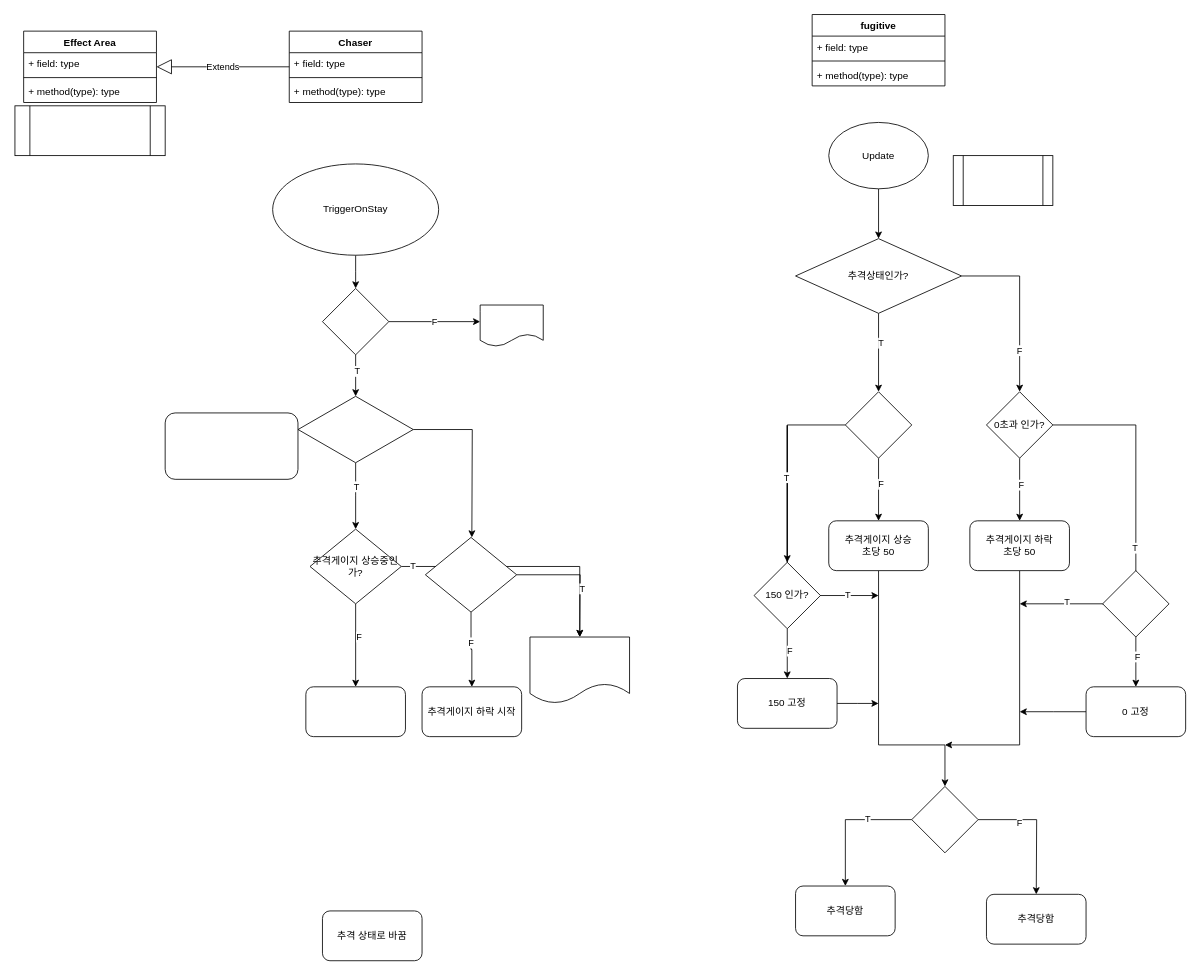
The diagram is 1200 pixels wide and 975 high, and some of its shapes have lost their labels. The shapes that lost their labels are listed below. From the top down, each one's centre as x and y in pixels, then its label:
point 89,130: List<fugitive> fugitives
point 355,321: 인형인가?
point 355,429: 카메라 안에 보이는가?
point 878,424: 150 미만인가?
point 231,445: cam.WorldToVeiwPortPoint 1~0 사이면 카메라에보임
point 471,574: 추격게이지 하락중인가?
point 1135,603: 0인가?
point 355,711: 추격게이지 상승 시작
point 944,819: 50 이상인가?
